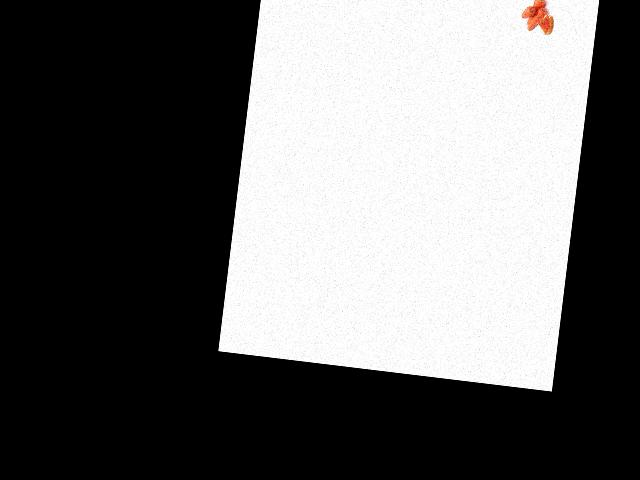carrot: (525, 6, 546, 33)
